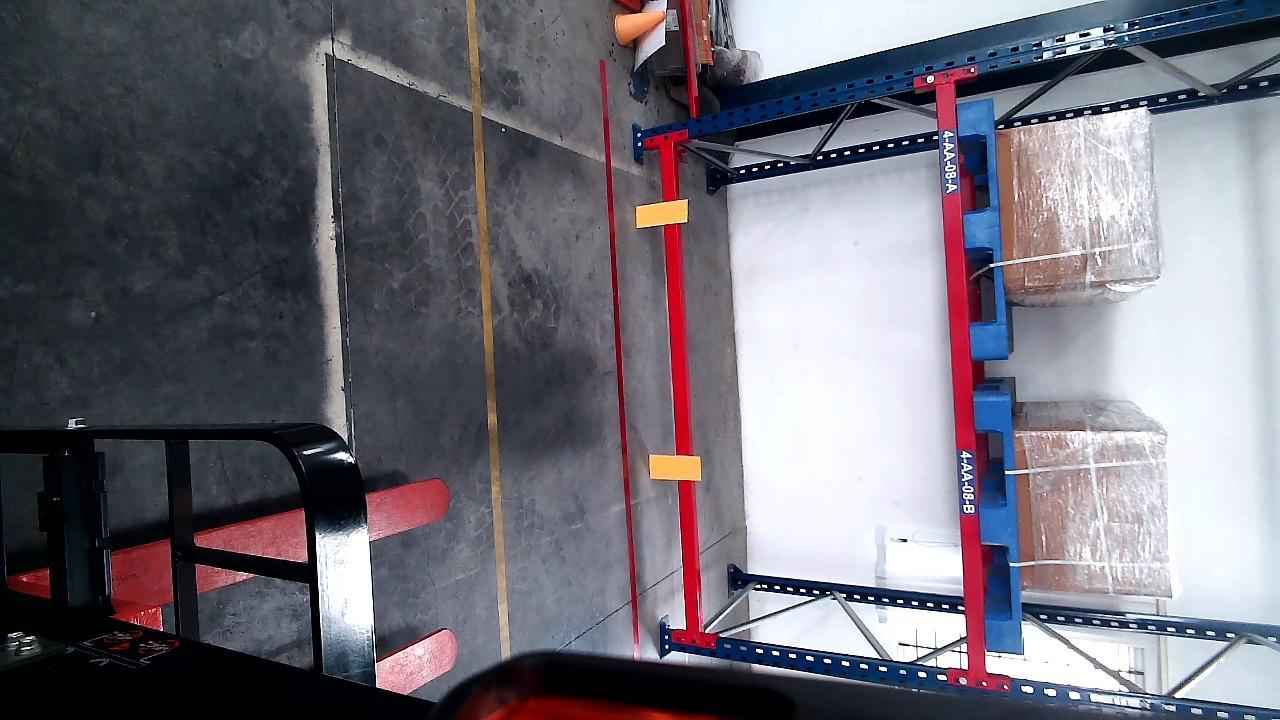red_line: (597, 61, 640, 656)
yellow_line: (468, 0, 510, 660)
